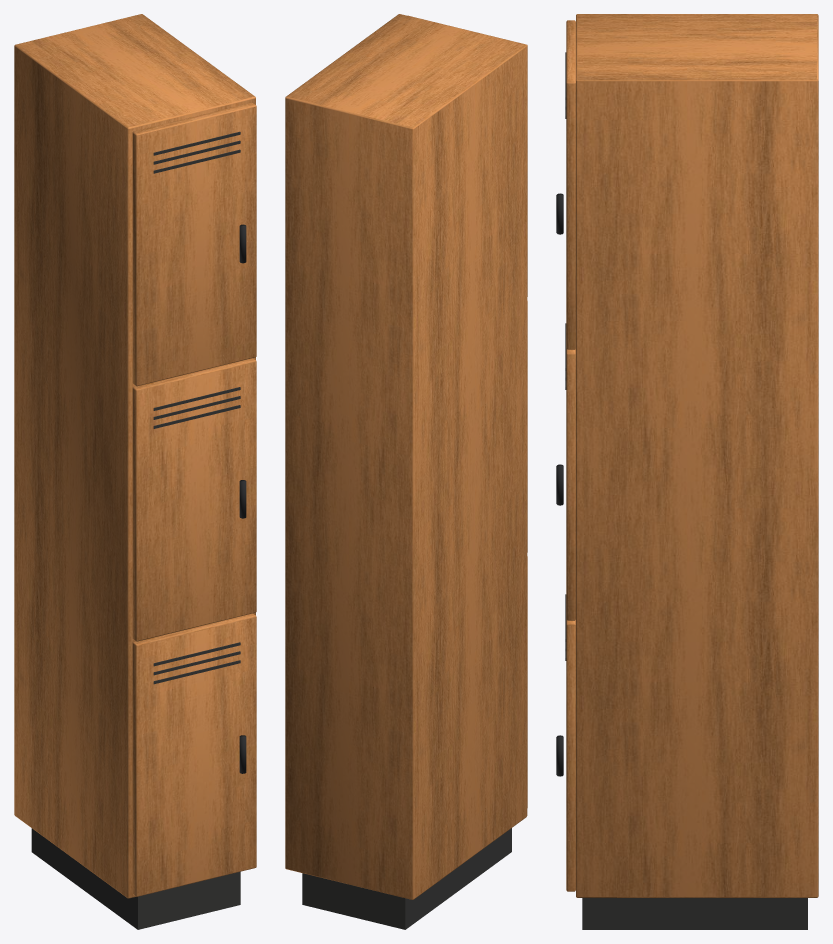
File: storage.personal-locker.glb
The picture shows the model from 3 angles, left to right: view 1: azimuth 30°, elevation 25°; view 2: azimuth 150°, elevation 25°; view 3: azimuth 270°, elevation 25°; orthographic projection. The views are drawn at different scales.
Visible parts, largest first — view 1: storage.personal-locker.001; view 2: storage.personal-locker.001; view 3: storage.personal-locker.001.
Boxes of the visible parts, x1=… form: storage.personal-locker.001: x1=14, y1=14, x2=256, y2=929; storage.personal-locker.001: x1=285, y1=14, x2=527, y2=929; storage.personal-locker.001: x1=556, y1=14, x2=818, y2=929.
Bounding box in the file's own units: 0.3 × 1.8 × 0.499.
3 materials, 1 textured.
